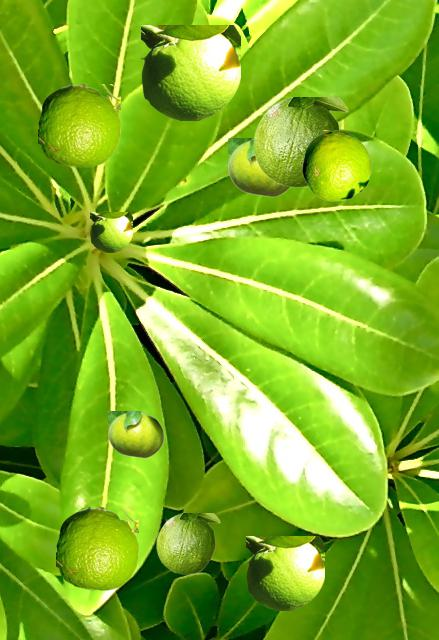dalandan: (141, 25, 239, 119), (253, 97, 347, 186), (56, 507, 137, 589), (38, 84, 119, 166), (246, 536, 323, 609), (302, 130, 370, 200), (156, 513, 219, 573), (228, 138, 291, 196), (108, 411, 163, 457), (90, 212, 131, 251)
